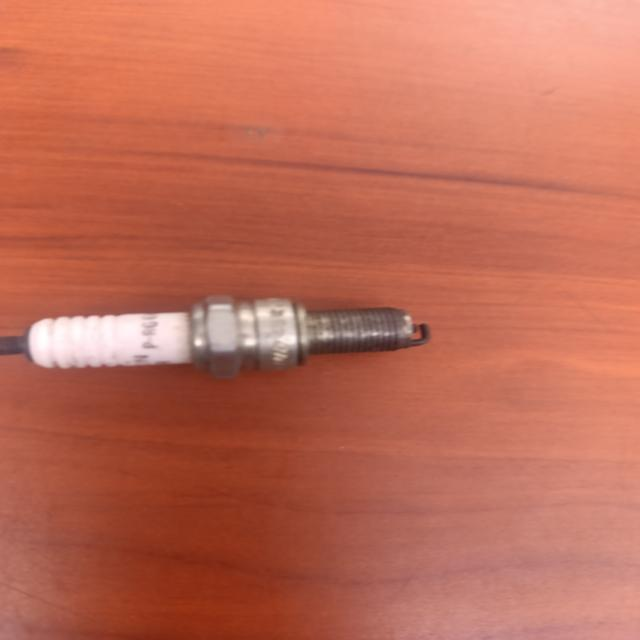Mause: (0, 296, 431, 379)
